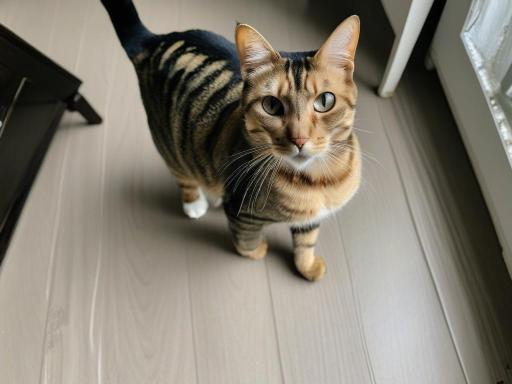cat_standing: (102, 0, 361, 280)
